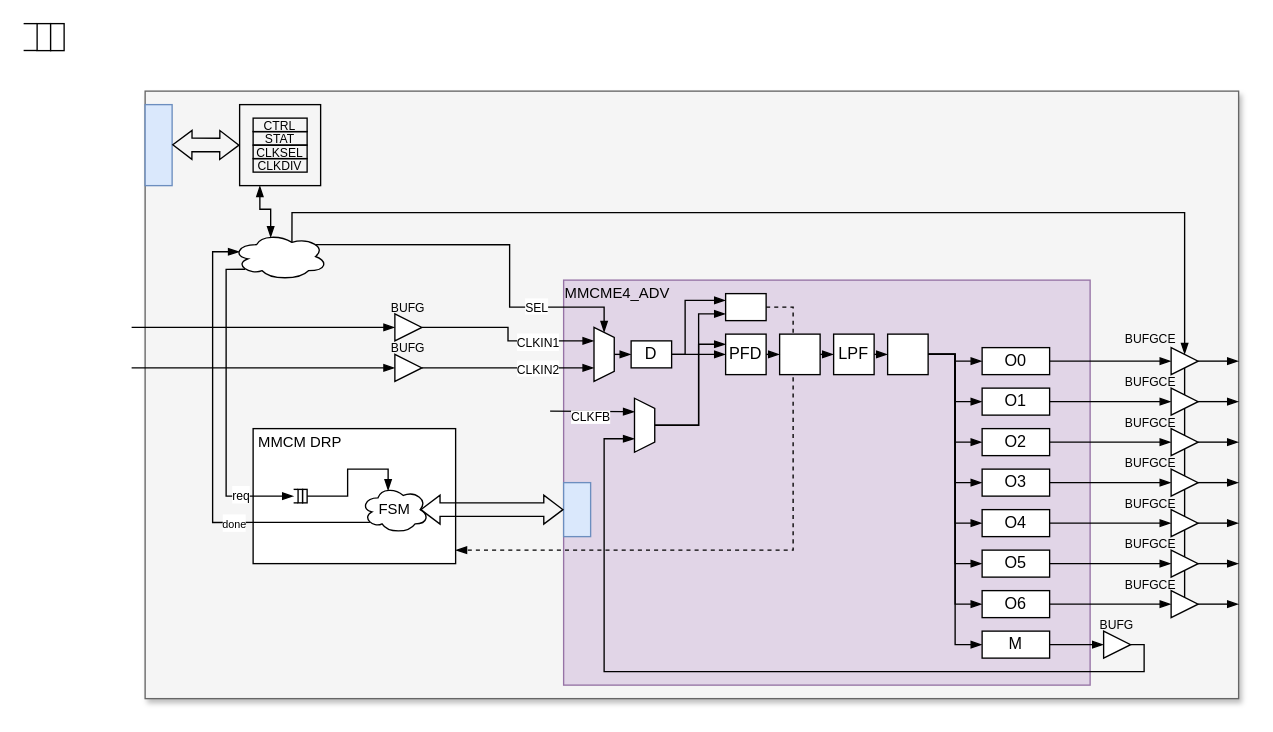
This 1273x732 diagram has some shape labels left out. Each missing label, with the centre of its shape:
AXI4Lite: point 158,144
CP: point 799,354
DRC FSM: point 279,256
DRP: point 576,509
LCK: point 745,306
VCO: point 907,354
